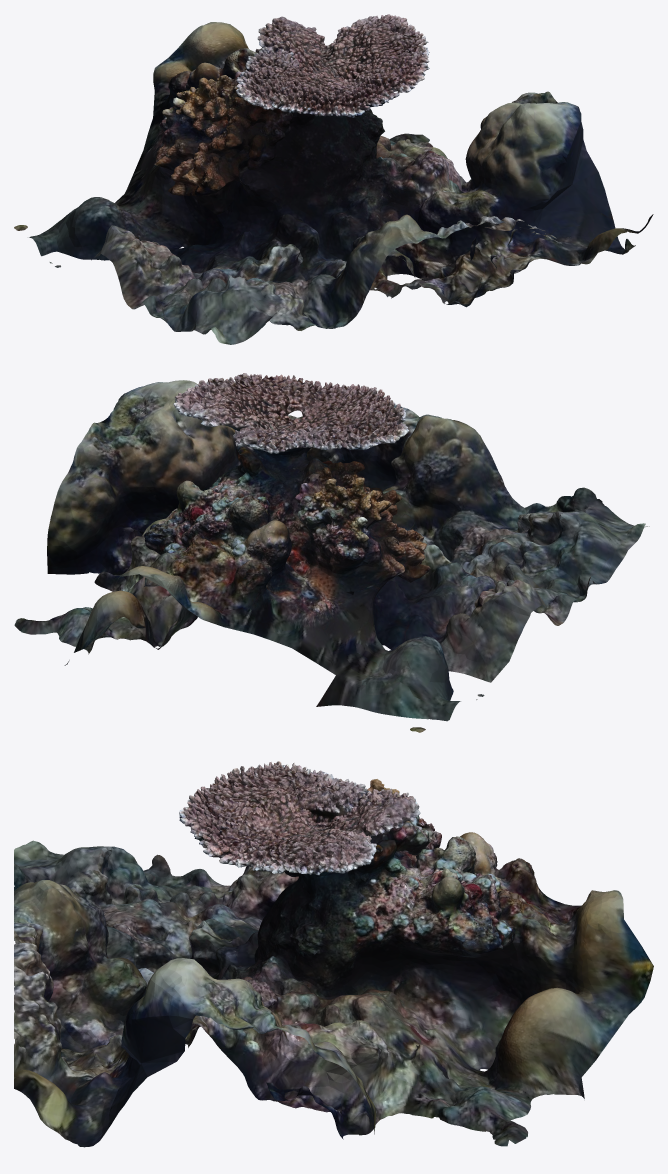
Rendered from coral.glb.
3 renders of one model, top to bottom at view 1: azimuth 30°, elevation 25°; view 2: azimuth 150°, elevation 25°; view 3: azimuth 270°, elevation 25°, orthographic. The views are drawn at different scales.
Parts seen in each view (by area): view 1: coral; view 2: coral; view 3: coral.
Boxes of the visible parts, x1,y1,x2,y2 form: coral: (14, 14, 653, 344); coral: (14, 373, 649, 732); coral: (14, 761, 653, 1147).
Bounding box in the file's own units: 1.9 × 0.8205 × 2.
1 material, 1 textured.
